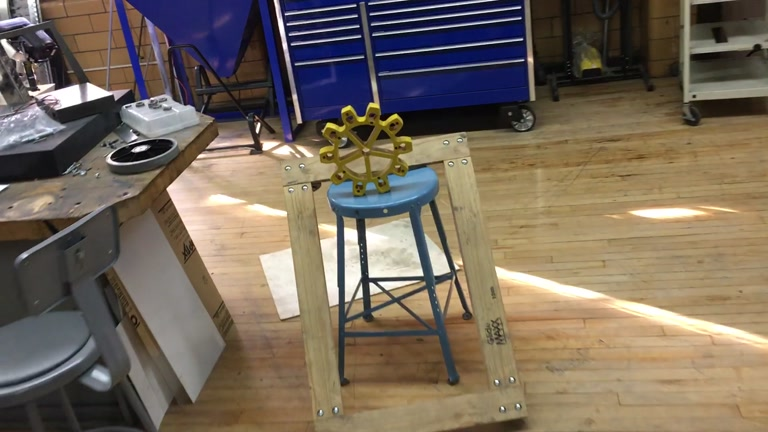gear: (321, 102, 413, 197)
